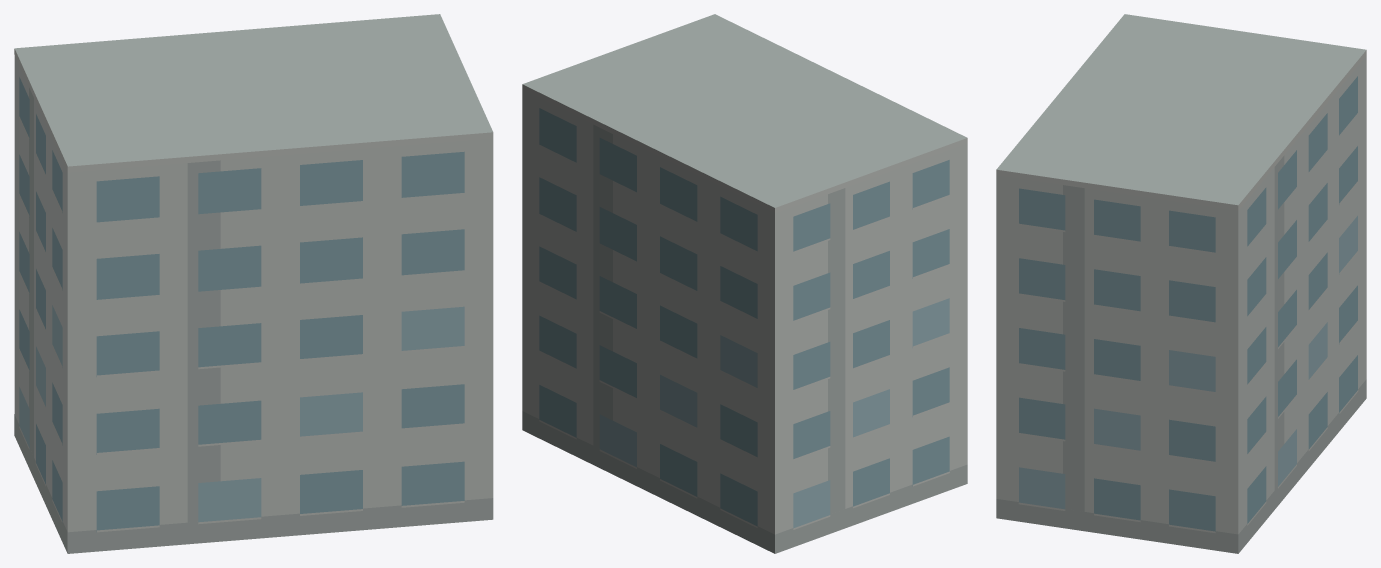
The model's file is residential-c3db3230-0c39-4ec1-804b-5f196569ad45.glb.
3 views of the same model, side by side, from view 1: azimuth 30°, elevation 25°; view 2: azimuth 150°, elevation 25°; view 3: azimuth 270°, elevation 25° (orthographic). The views are drawn at different scales.
Visible parts, largest first — view 1: residential-c3db3230-0c39-4ec1-804b-5f196569ad45.tmp; view 2: residential-c3db3230-0c39-4ec1-804b-5f196569ad45.tmp; view 3: residential-c3db3230-0c39-4ec1-804b-5f196569ad45.tmp.
Boxes of the visible parts, x1=… form: residential-c3db3230-0c39-4ec1-804b-5f196569ad45.tmp: x1=14, y1=14, x2=493, y2=553; residential-c3db3230-0c39-4ec1-804b-5f196569ad45.tmp: x1=522, y1=14, x2=967, y2=553; residential-c3db3230-0c39-4ec1-804b-5f196569ad45.tmp: x1=996, y1=14, x2=1366, y2=553.
Bounding box in the file's own units: 17.96 × 15.25 × 14.69.
